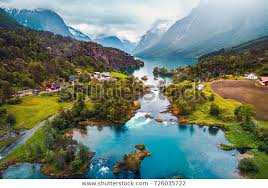lake: (103, 58, 235, 176)
mountain: (7, 18, 268, 135)
